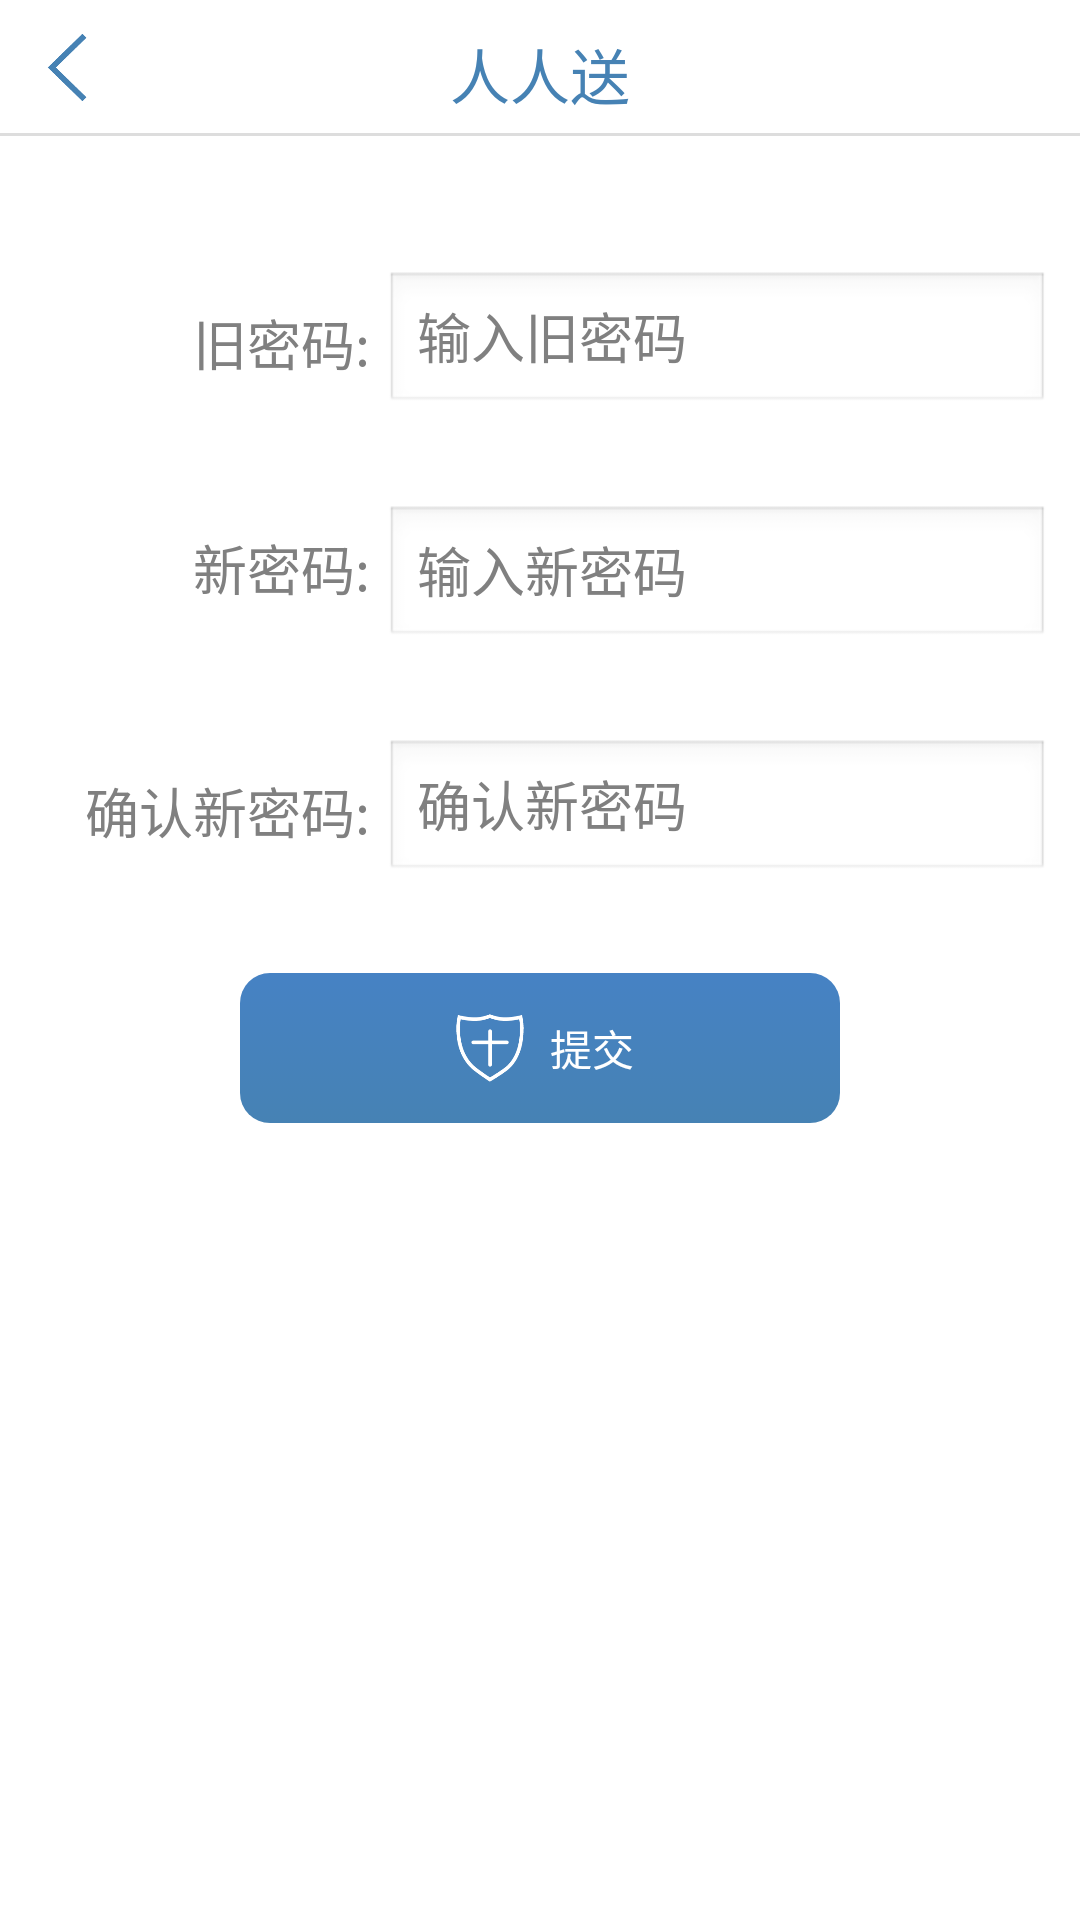

Where to tap for icons on this 1080 x 1920 app screen, as (x=x, y=y):
back: (x=67, y=67)
sec: (x=490, y=1048)
